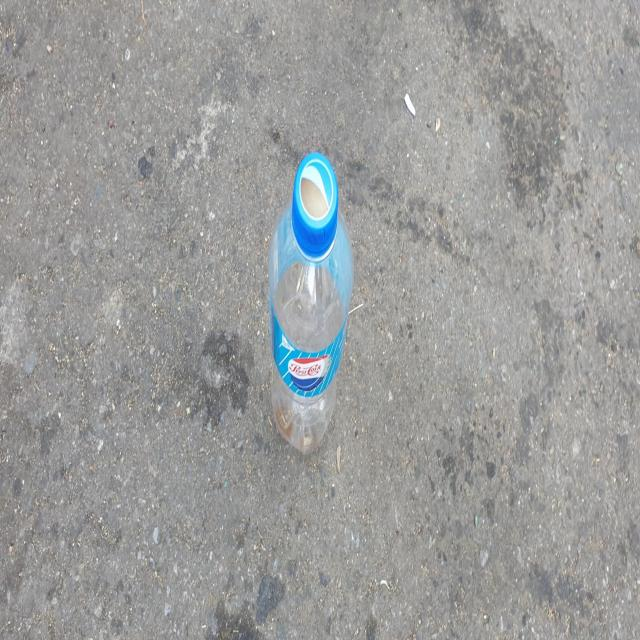plastic: (269, 150, 353, 454)
